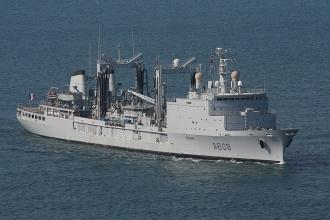warship: (13, 35, 303, 164)
